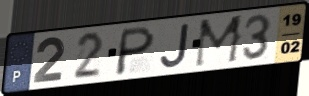2: (31, 35, 68, 86), (72, 30, 106, 81)
3: (241, 12, 274, 62)
J: (159, 21, 192, 69)
M: (192, 13, 246, 70)
P: (112, 24, 158, 77)
